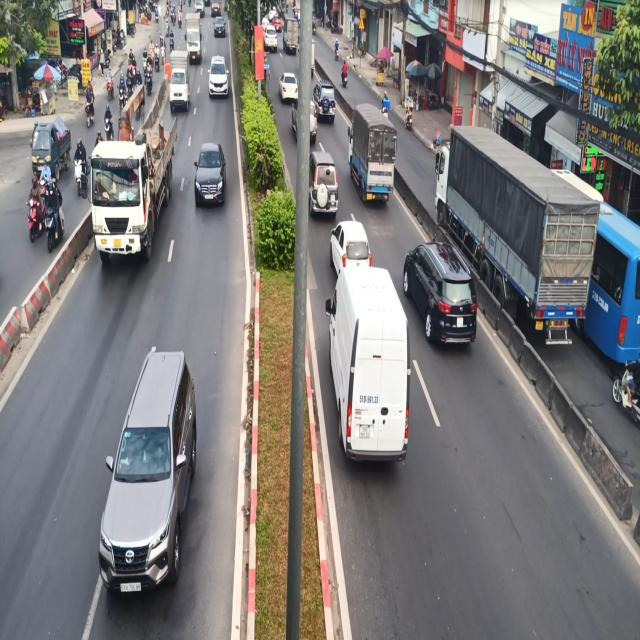car: (86, 338, 197, 618), (329, 274, 416, 476), (405, 232, 479, 364), (193, 128, 232, 212), (205, 44, 231, 108)
truck: (89, 112, 182, 289), (348, 102, 395, 206), (169, 52, 191, 117)
